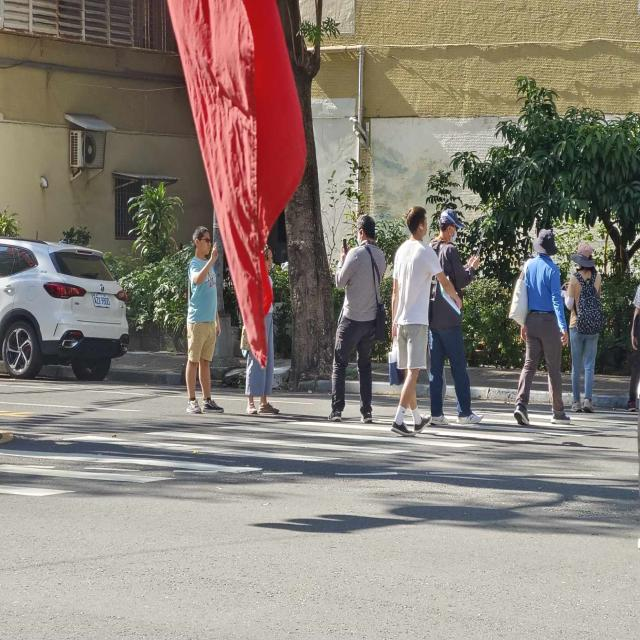person: (391, 207, 461, 438), (329, 215, 385, 423), (514, 228, 570, 425), (429, 278, 481, 425), (186, 227, 224, 413), (566, 243, 604, 412), (430, 208, 480, 301), (628, 285, 640, 410), (636, 375, 638, 412), (638, 396, 640, 415)
zebra crossing: (0, 401, 590, 501)
